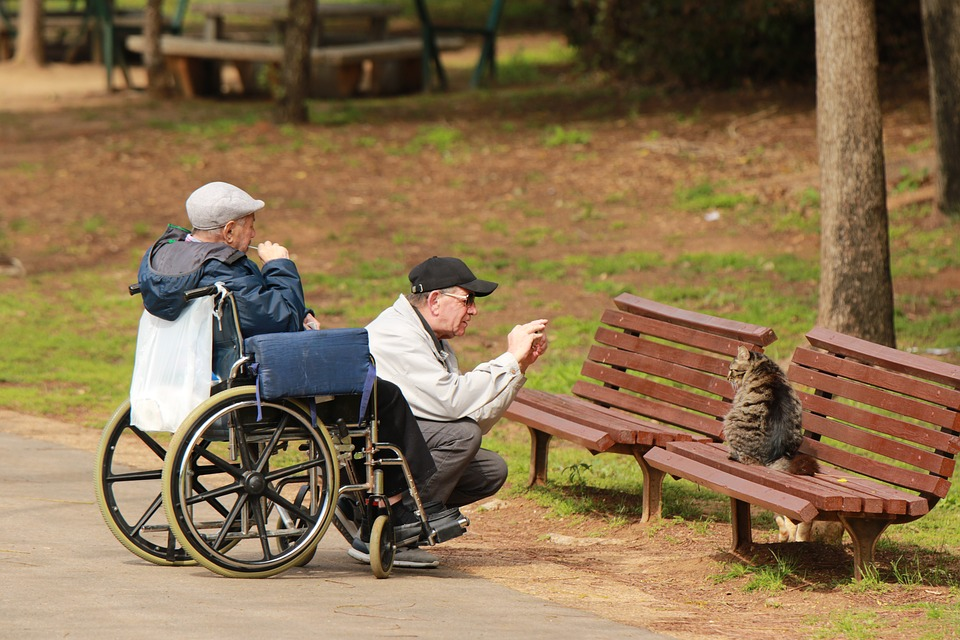Person: (186, 180, 462, 542), (331, 255, 549, 569)
